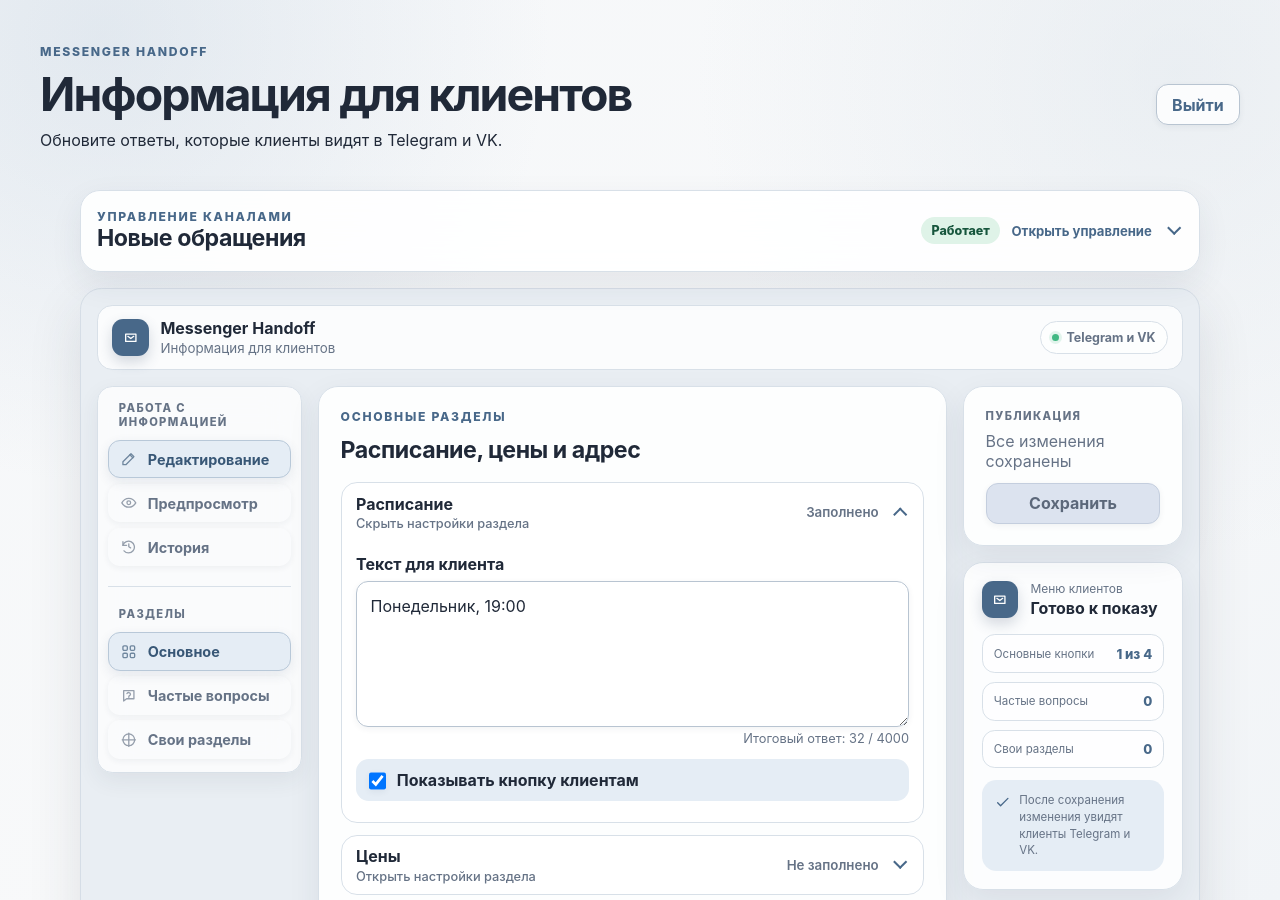
Test: content visibility › hides a filled standard section from the client preview
The width and height of the screenshot is (1280, 900).
What coordinates should you click on to do the following:
click the checkbox labelled "Показывать кнопку клиентам"
I would click on:
 (378, 781)
Its box is [369,772,386,790].
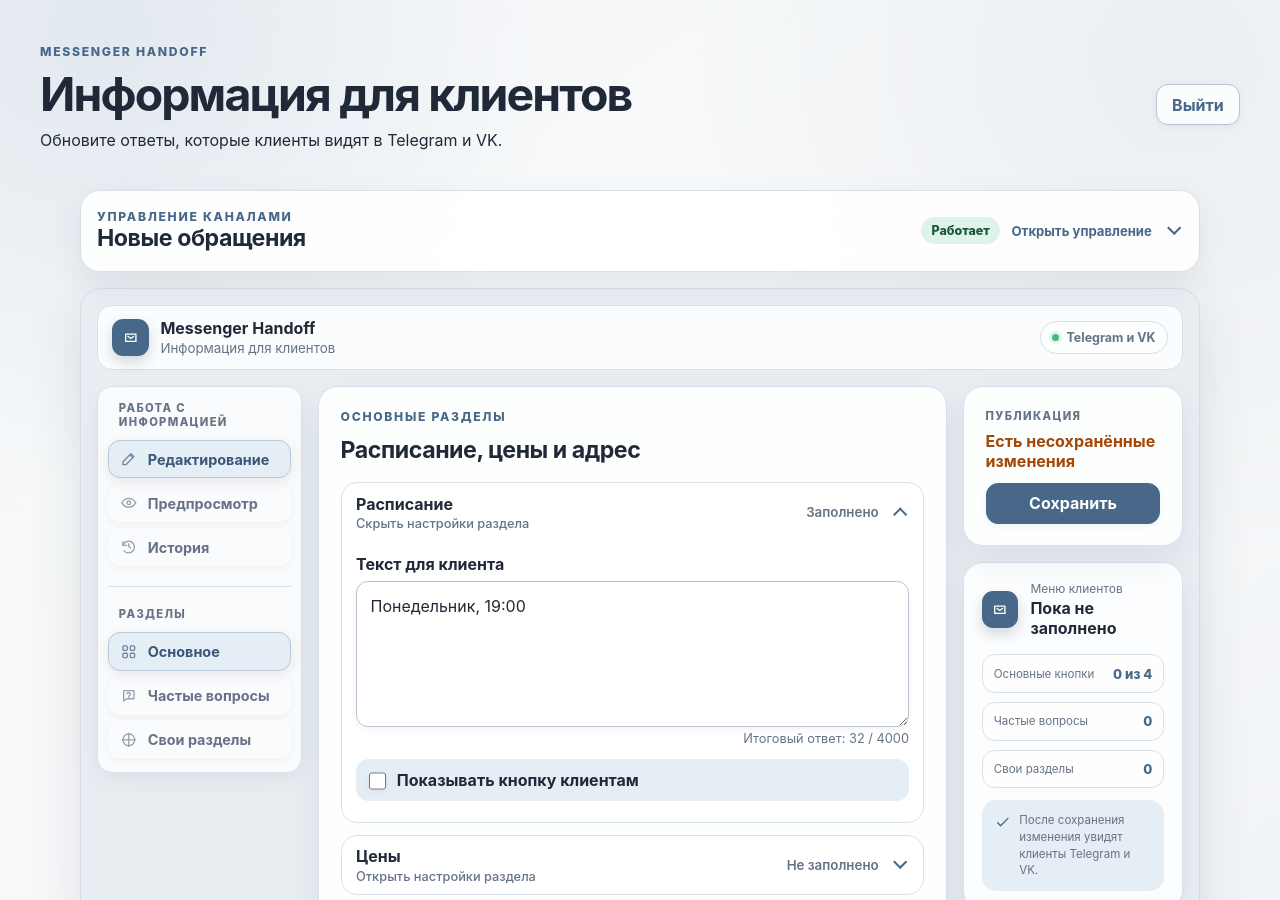
What coordinates should you click on to do the following:
click the button "Предпросмотр"
I would click on:
 (200, 503)
Its box is [108,484,291,522].
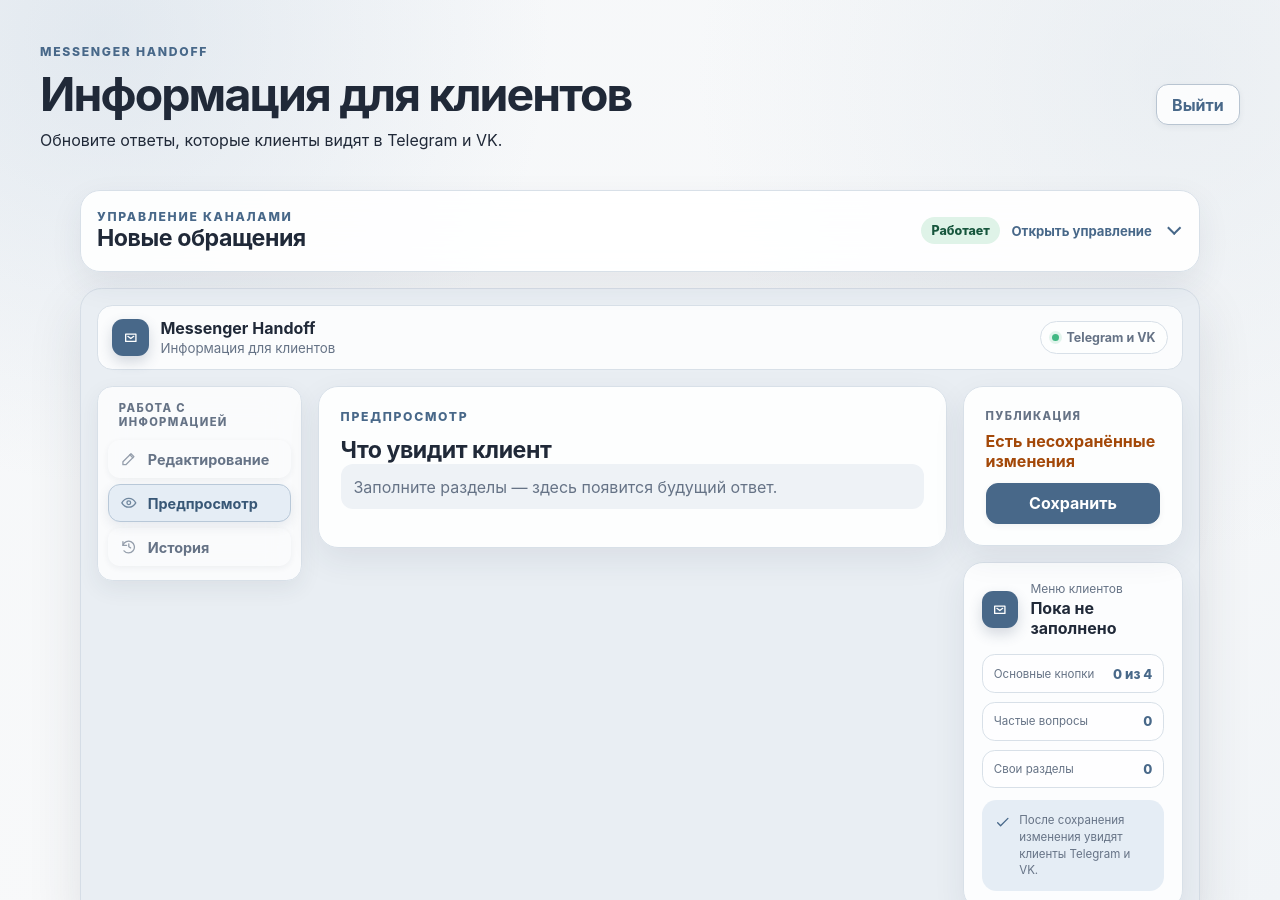
Expected: the text "Понедельник, 19:00" is not shown
Expected: the text "Есть несохранённые изменения" is shown, [986,431,1160,471]
Expected: the text "Заполните разделы" is shown, [353,477,777,497]
